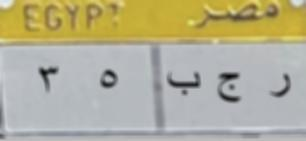3: (32, 58, 63, 100)
5: (98, 68, 120, 95)
baa: (164, 67, 206, 104)
jeem: (214, 68, 248, 105)
raa: (265, 66, 295, 103)
